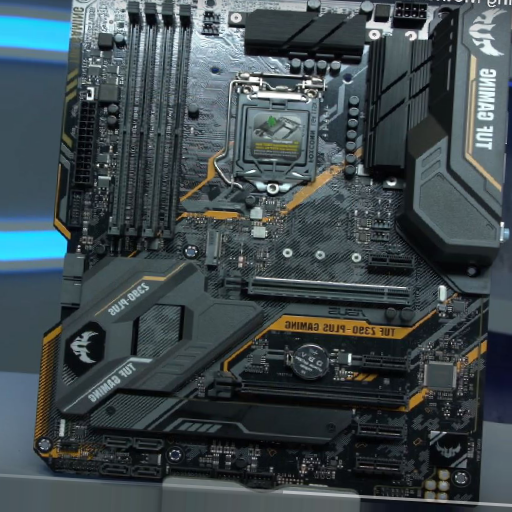CPU: (234, 72, 325, 195)
GPU: (209, 370, 411, 407), (217, 270, 411, 307)
MOTHERBOARD: (37, 2, 510, 500)
RAM: (105, 2, 191, 242)
SSD: (202, 230, 223, 268)
